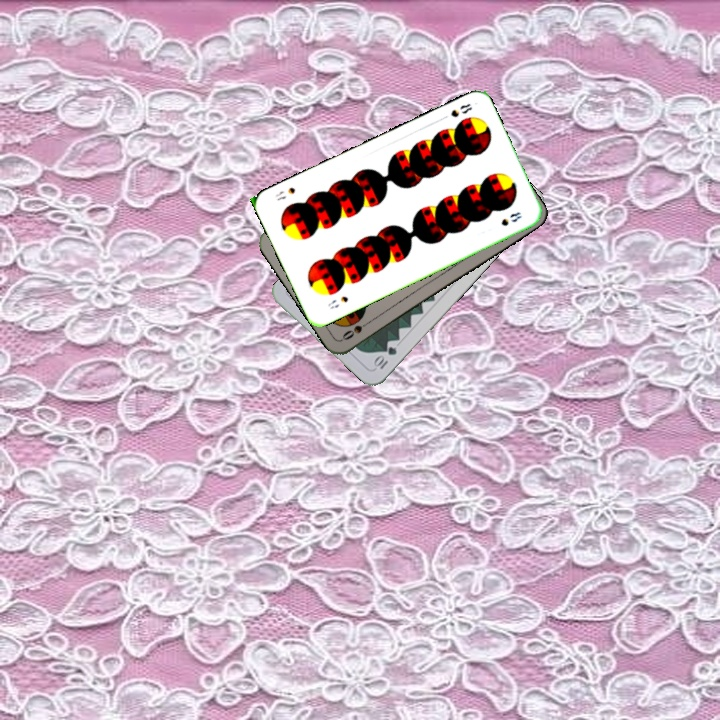G10: (369, 342, 400, 372)
S8: (437, 99, 475, 122), (324, 292, 351, 312)
SO: (338, 315, 375, 343)
